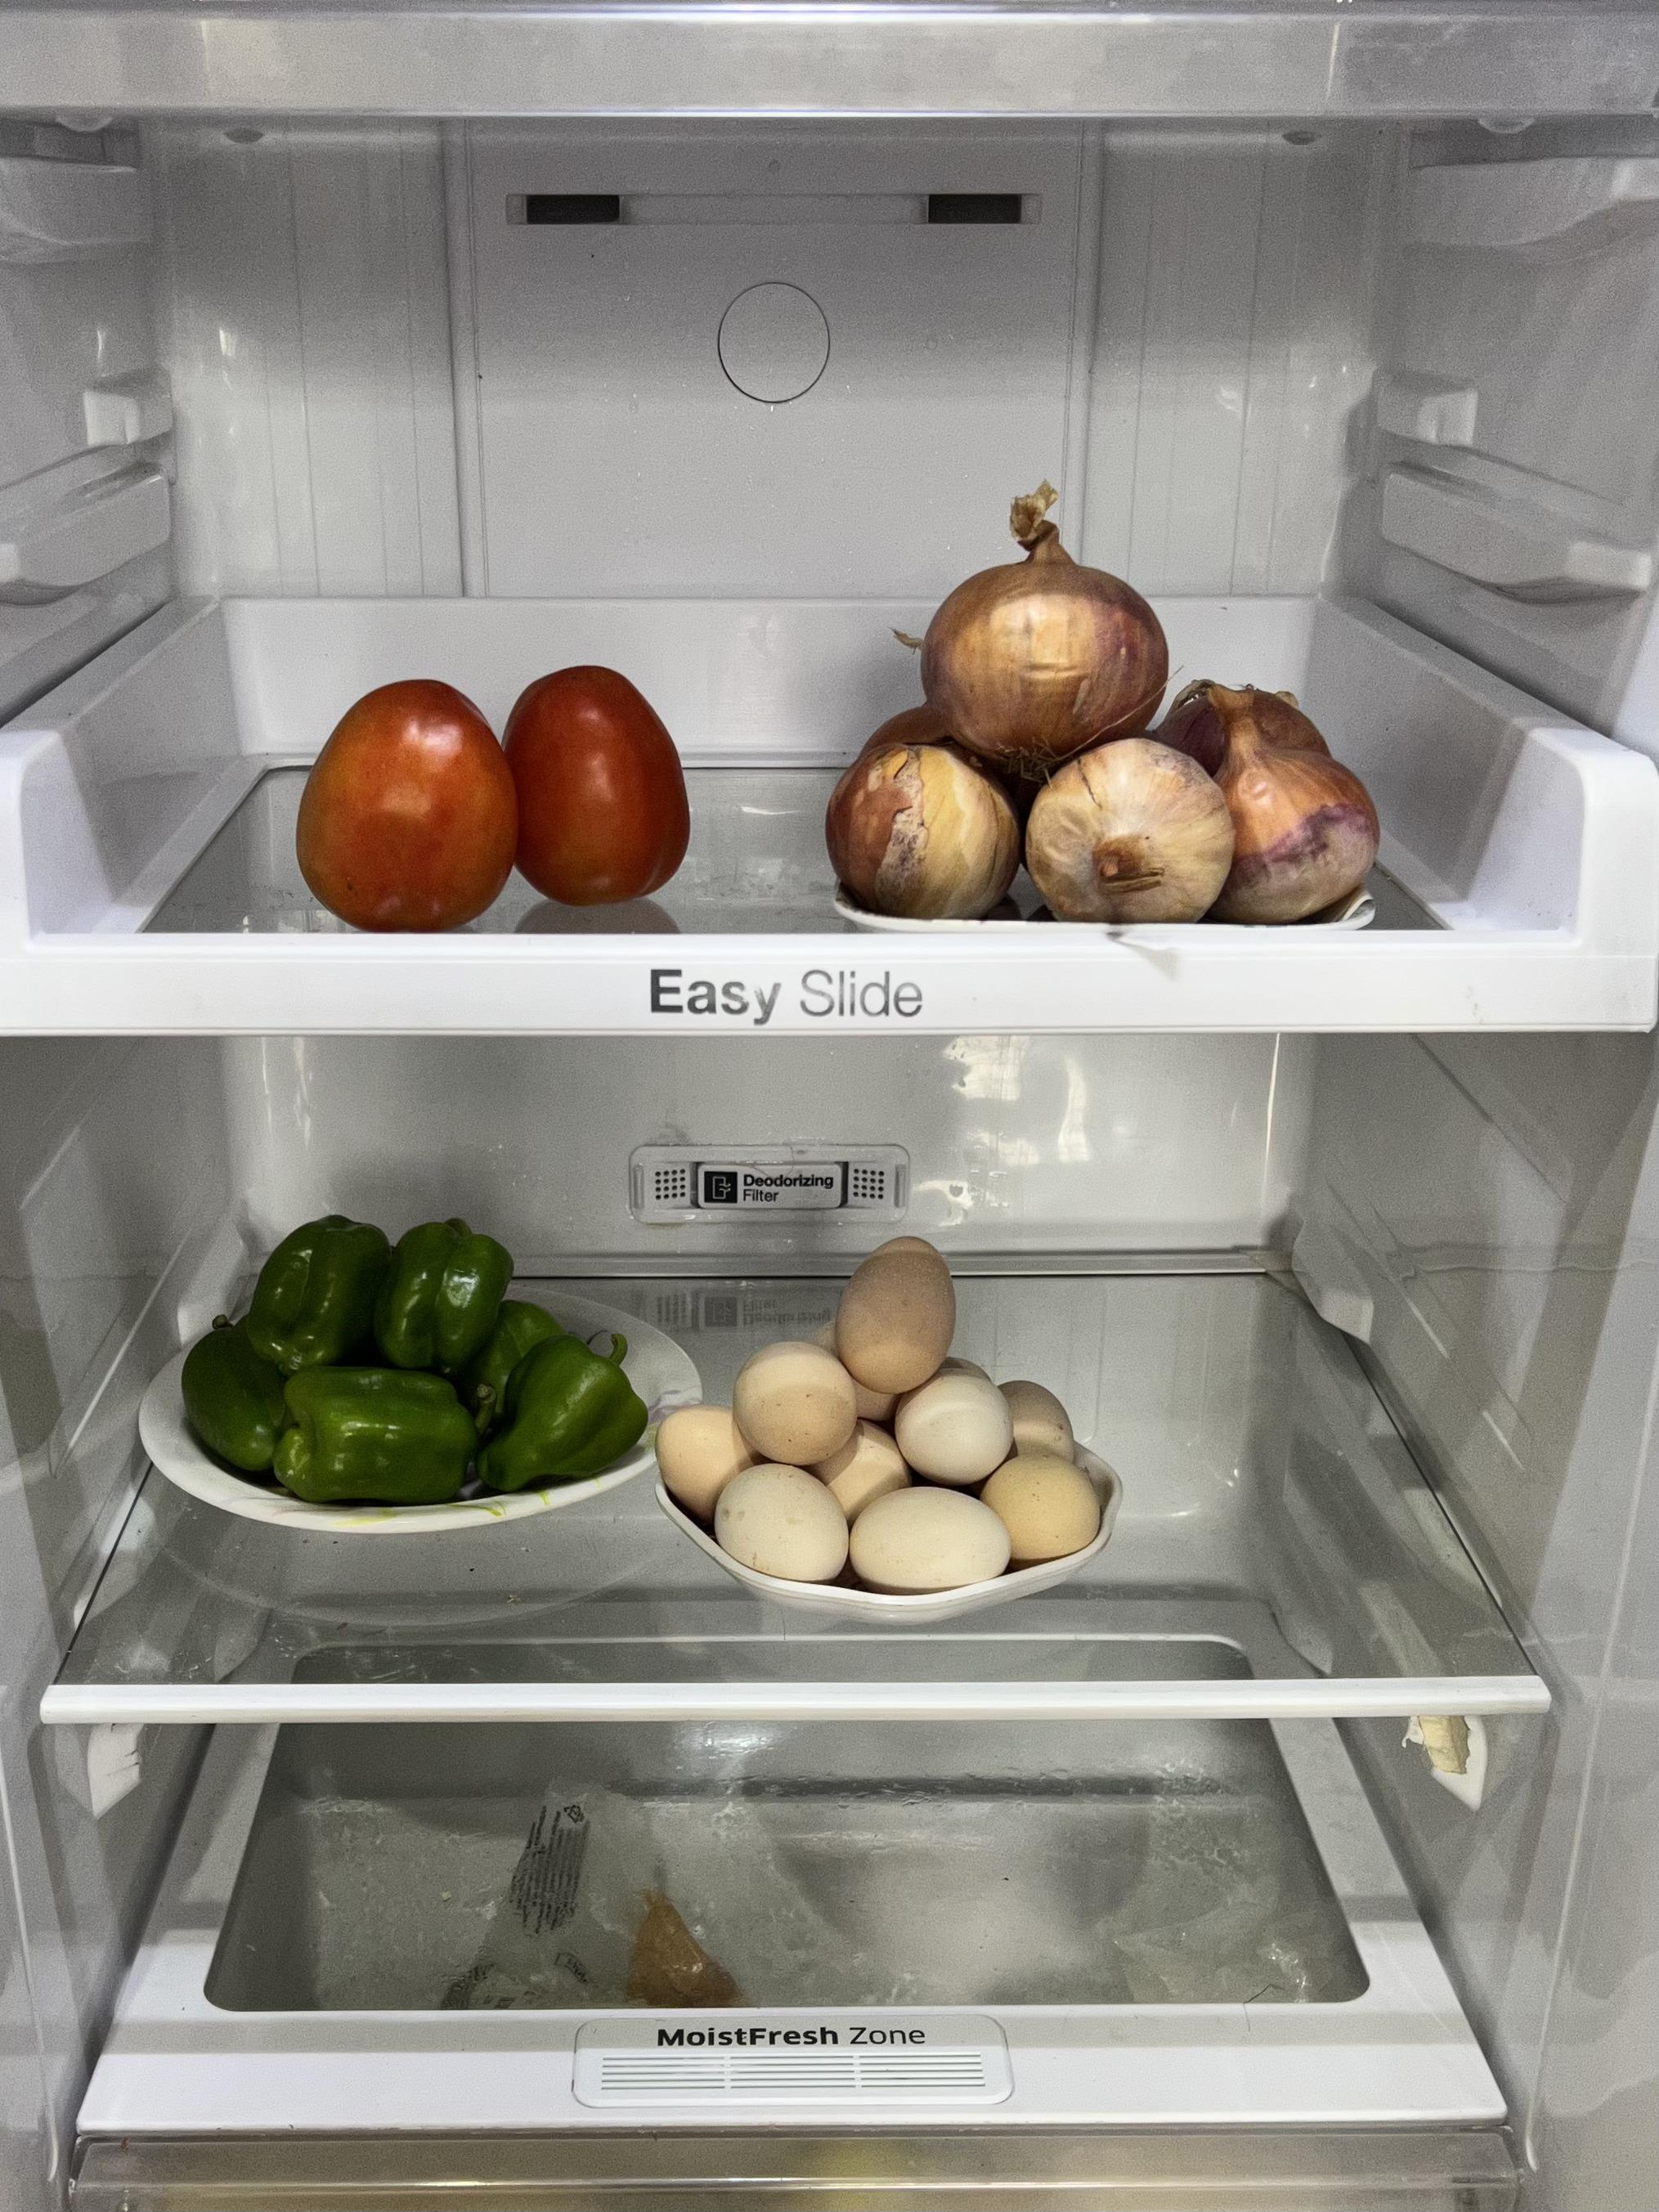capsicum: (169, 1203, 638, 1506)
egg: (667, 1269, 1117, 1598)
onion: (823, 558, 1408, 934)
tomato: (303, 640, 688, 927)
